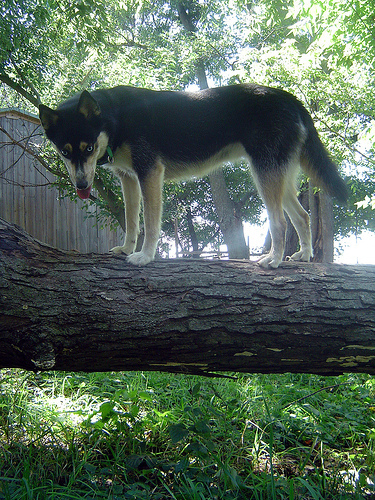dog: (38, 82, 370, 268)
